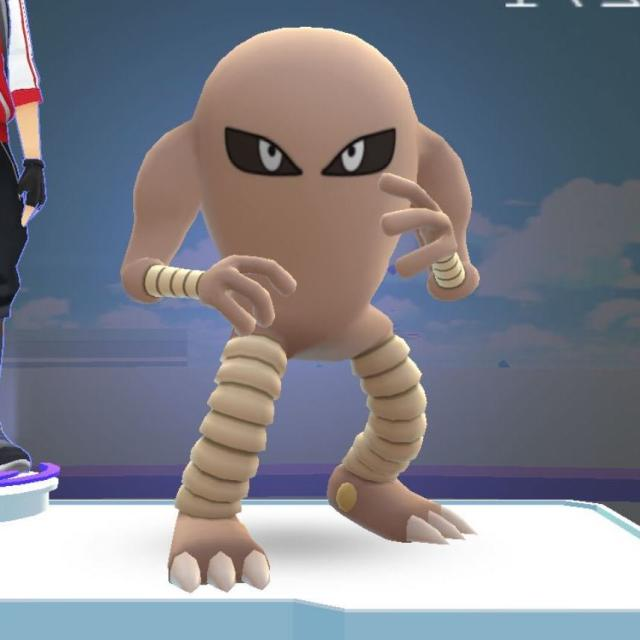Hitmonlee: (126, 10, 482, 583)
